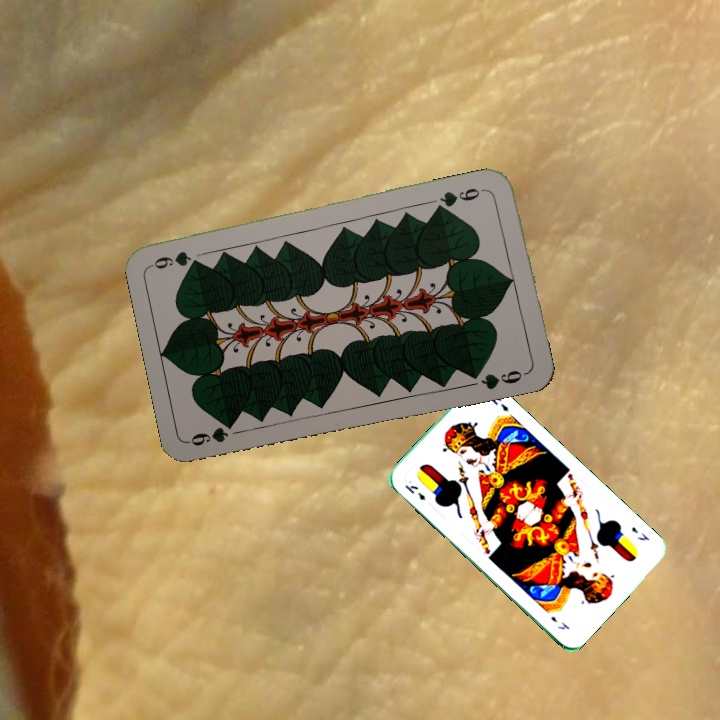EK: (401, 480, 428, 503), (627, 523, 652, 543)
G9: (186, 418, 238, 449), (433, 184, 490, 212)
